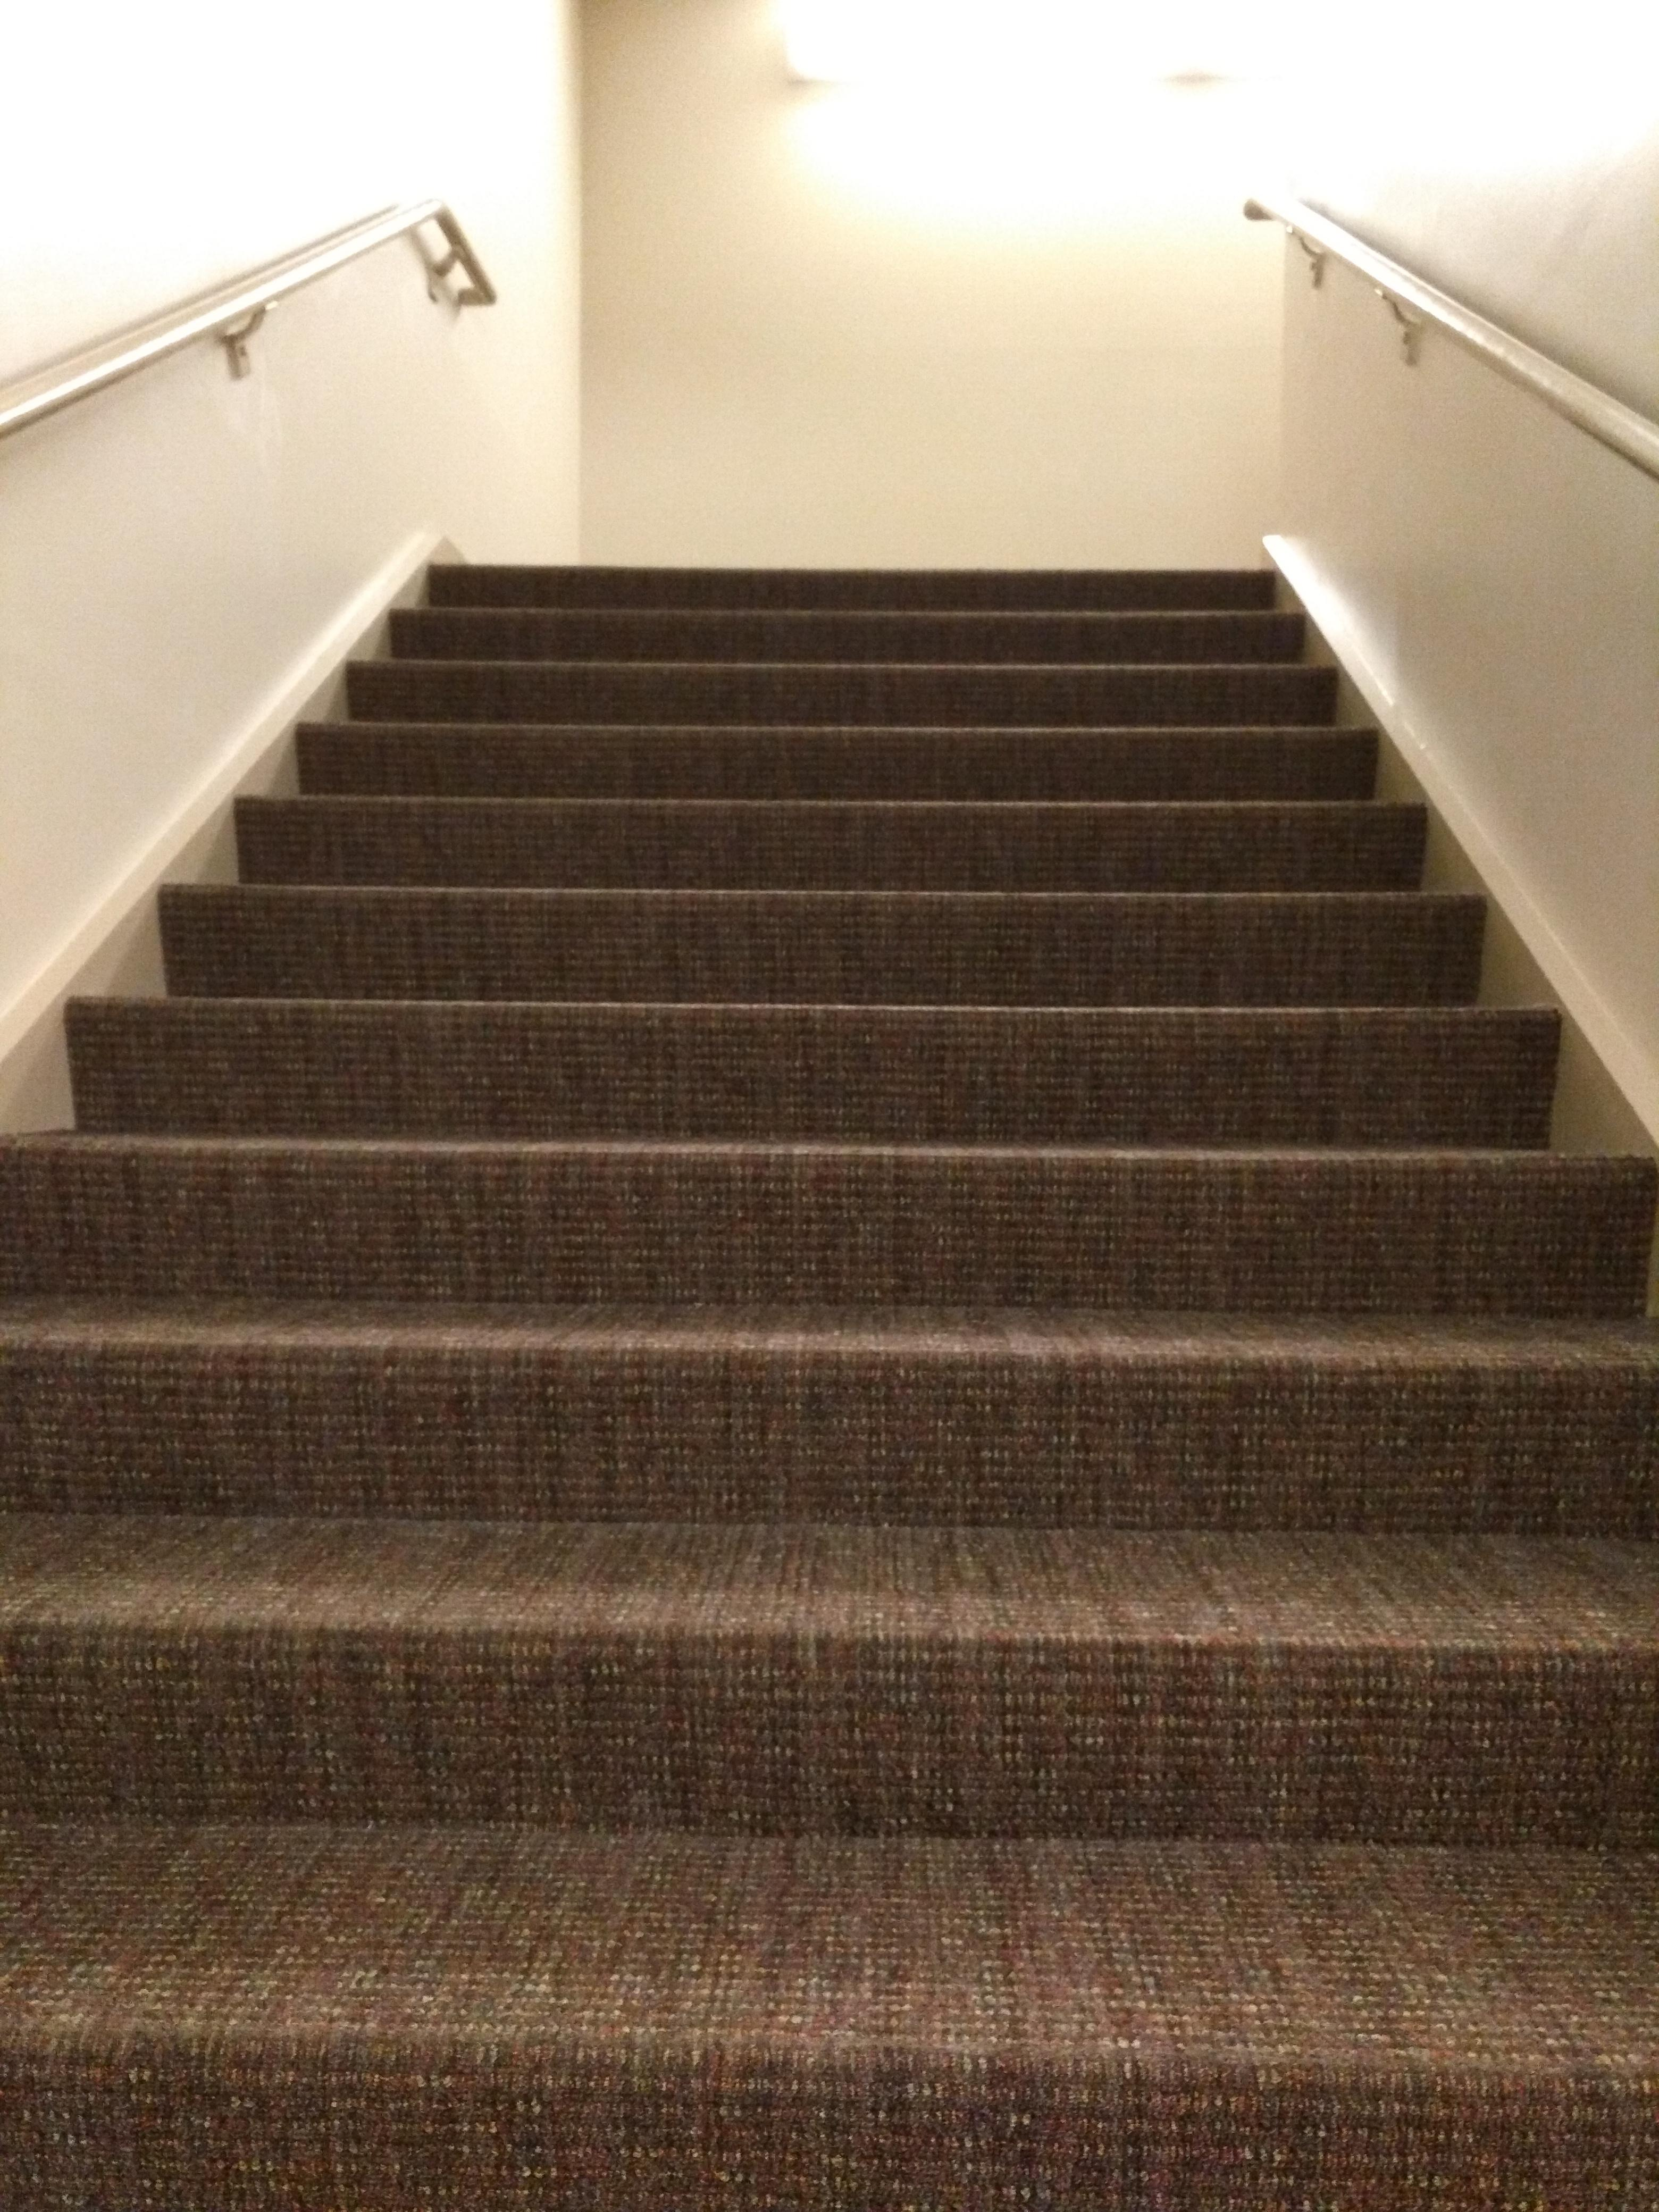stairs_up: (3, 550, 1659, 2163)
